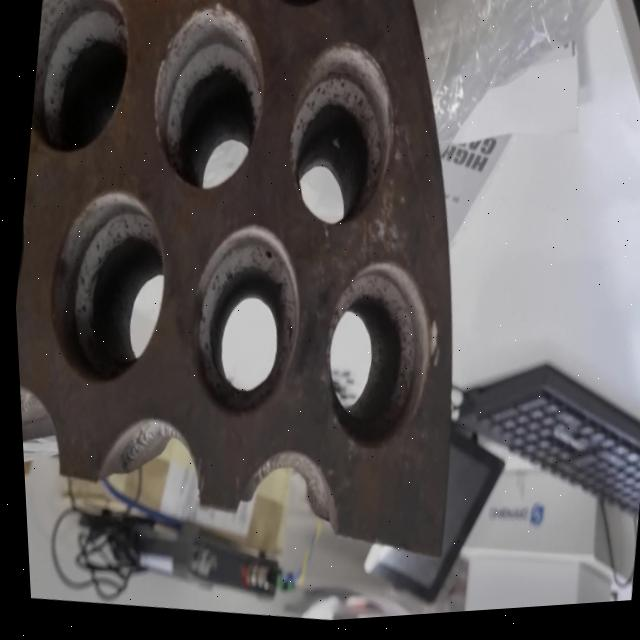Hole: (30, 180, 177, 399), (304, 256, 448, 464), (172, 219, 312, 431), (135, 0, 279, 205), (271, 37, 407, 239), (20, 0, 144, 163), (245, 0, 356, 24)
